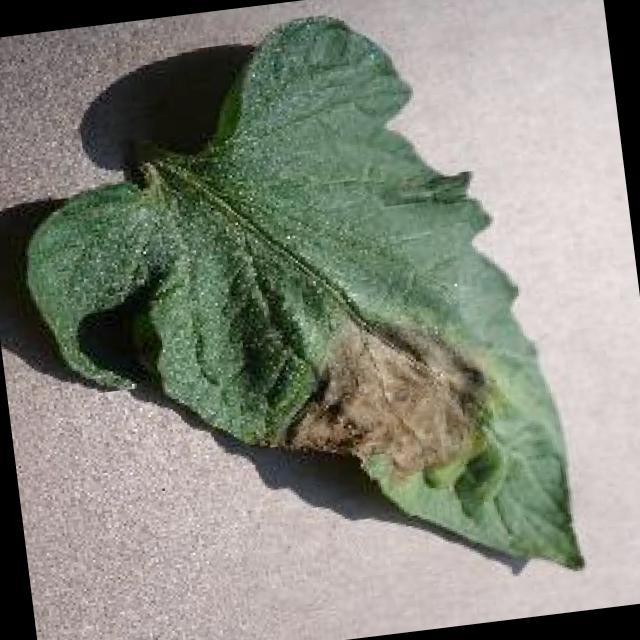Tomato late blight leaf: (0, 0, 587, 632)
